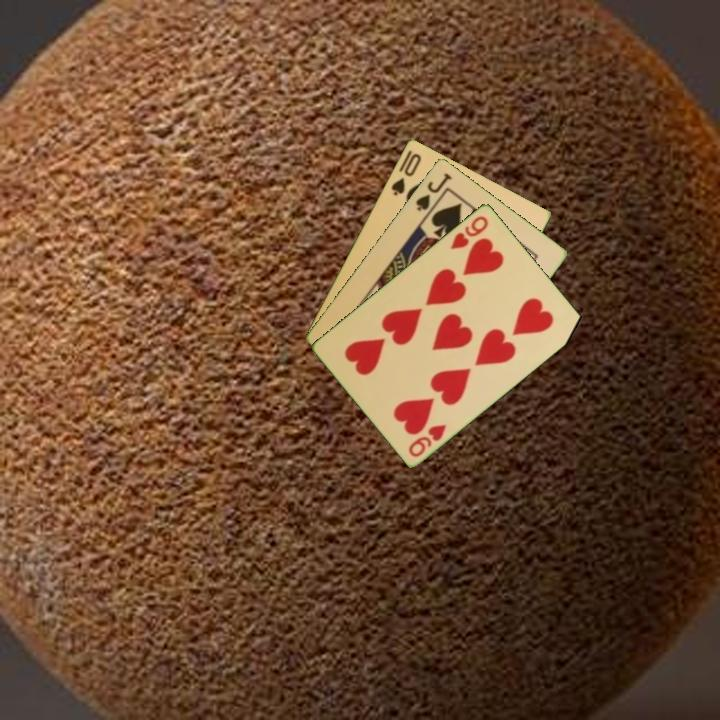10s: (388, 149, 424, 198)
9h: (447, 212, 491, 252), (405, 420, 449, 460)
Js: (412, 169, 454, 214)
